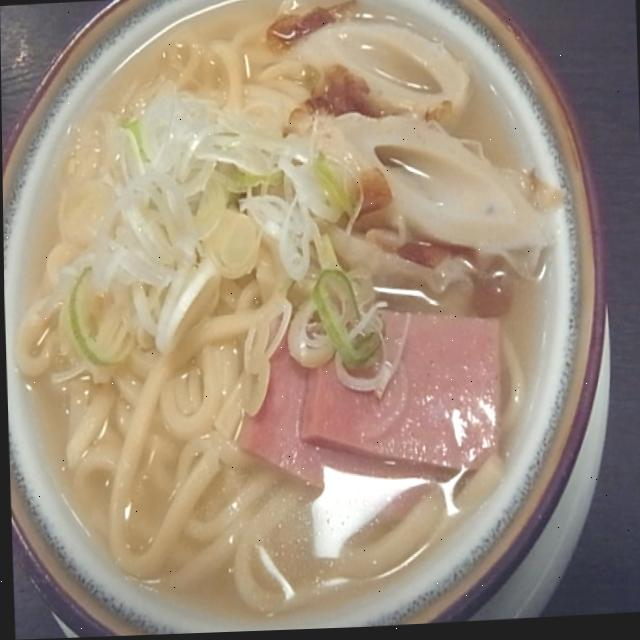牛肉菜式: (24, 0, 634, 639)
